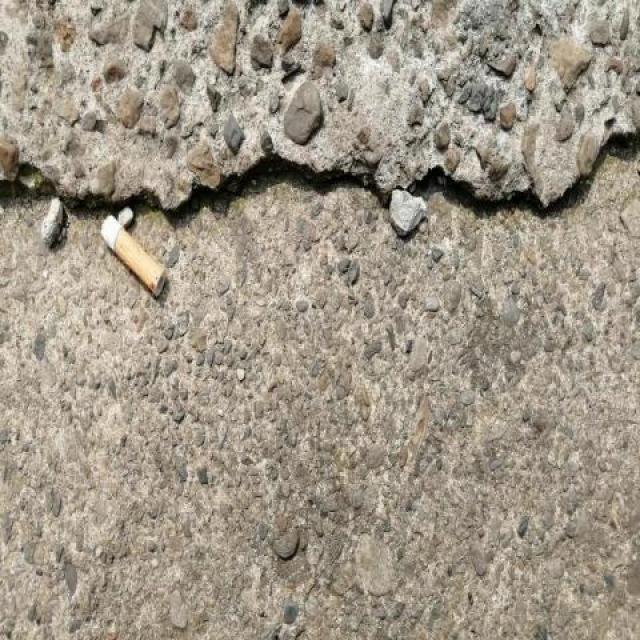non-organic waste: (94, 212, 171, 300)
